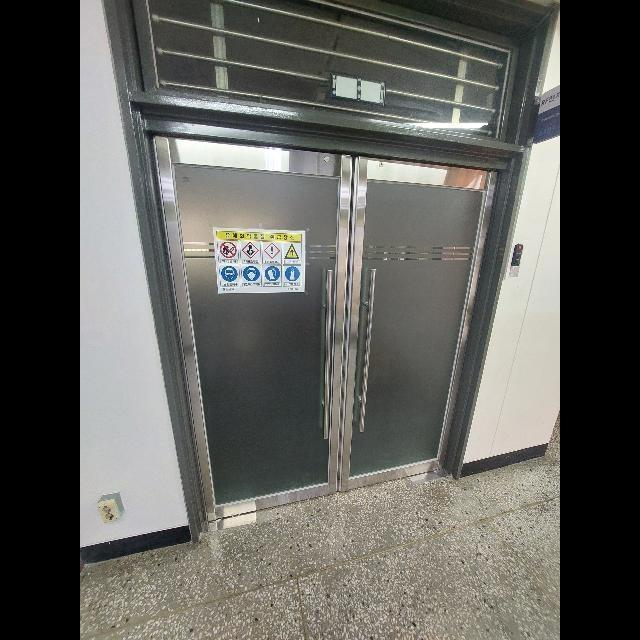door: (144, 119, 338, 518), (346, 147, 496, 502)
